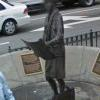Statue: (28, 1, 87, 91)
